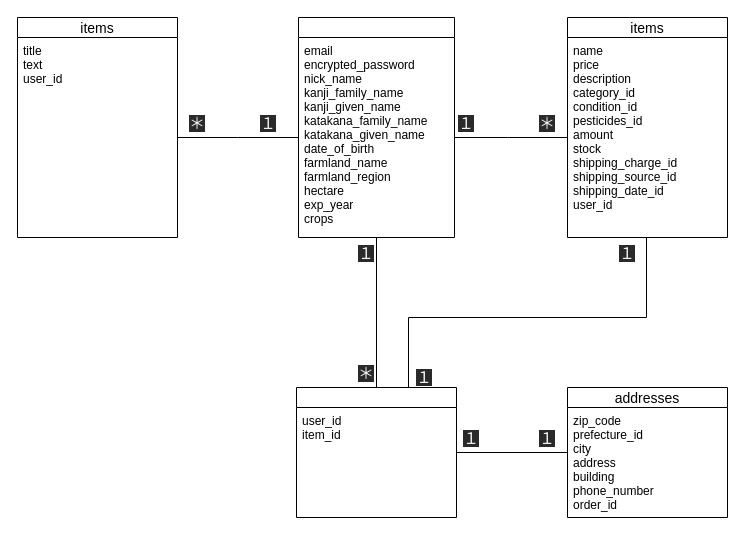
Image size: 745x538. Some labels were removed from this diagram. The shapes that lost their labels are listed below. From the top down, each one's box as (x1, y1, x2, y2) in pixels, then its label:
(298, 16, 454, 238): users
(296, 386, 456, 518): orders
